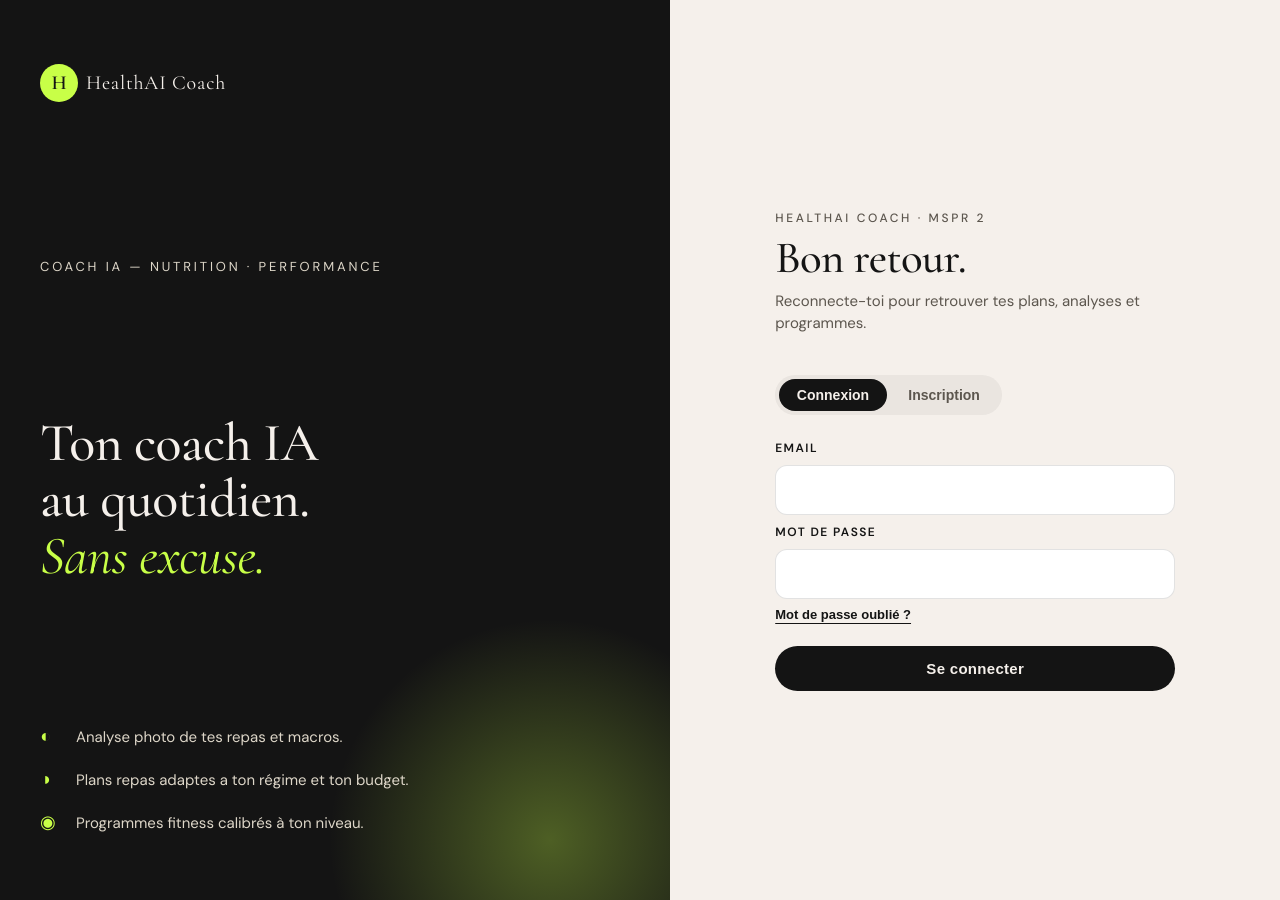
Test: AuthView › bascule vers le formulaire d inscription via l onglet
Click the button with class "auth-tab" showing "Inscription" at (944, 395), box x1=891 y1=379 x2=998 y2=411
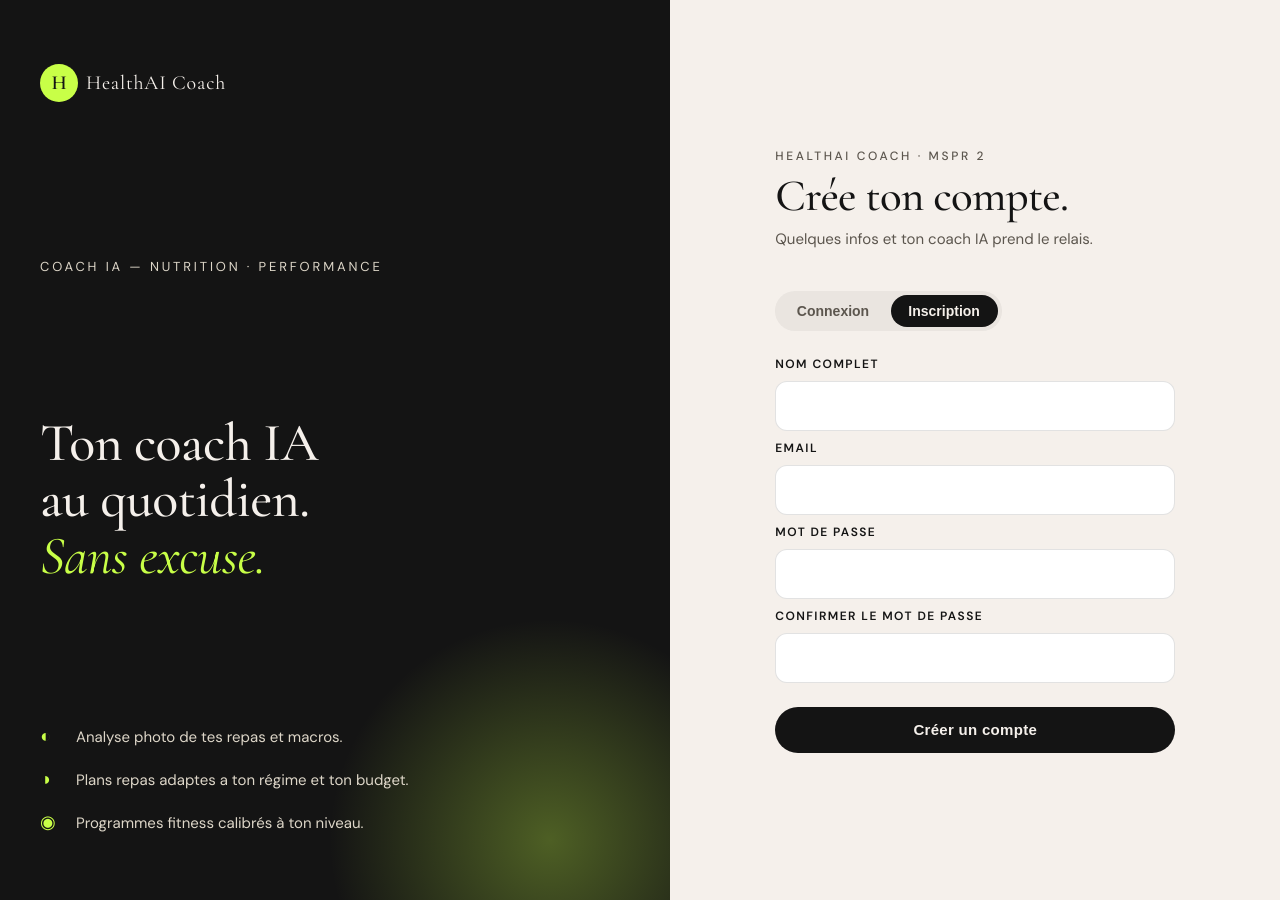
Expected: the field with id "register-name" is shown, x1=775 y1=381 x2=1175 y2=431
Expected: the password field with id "register-confirm-password" is shown, x1=775 y1=633 x2=1175 y2=683
Expected: the text "Crée ton compte." is shown, x1=775 y1=169 x2=1068 y2=223
